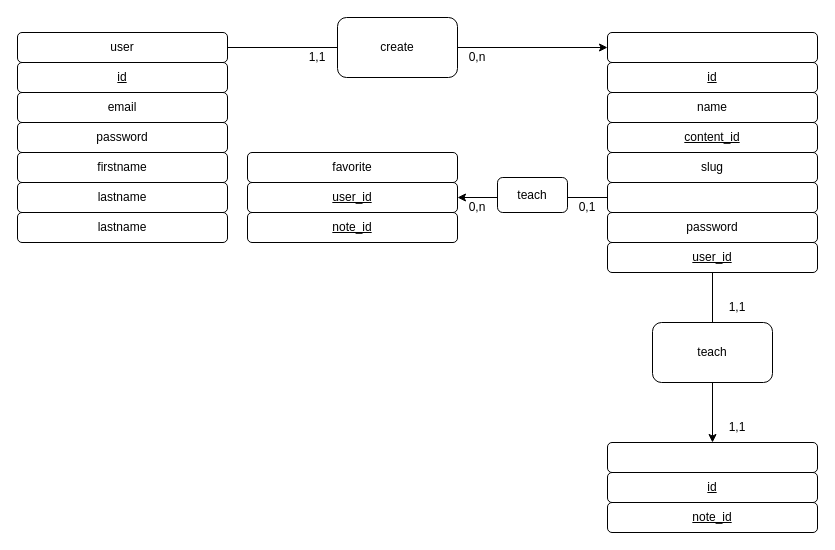
The diagram is 835 pixels wide and 550 high, and some of its shapes have lost their labels. Here are the shapes that lost their labels. From the top down, the centre of each, then its label:
point 712,47: notes
point 712,197: is_private
point 712,457: content
